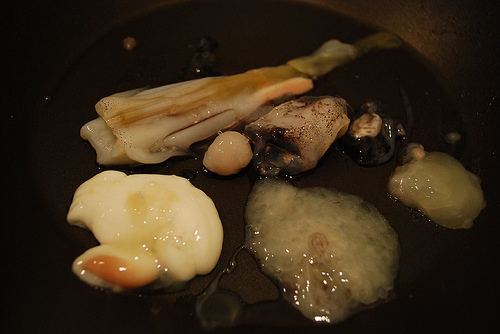egg: (62, 168, 225, 295)
